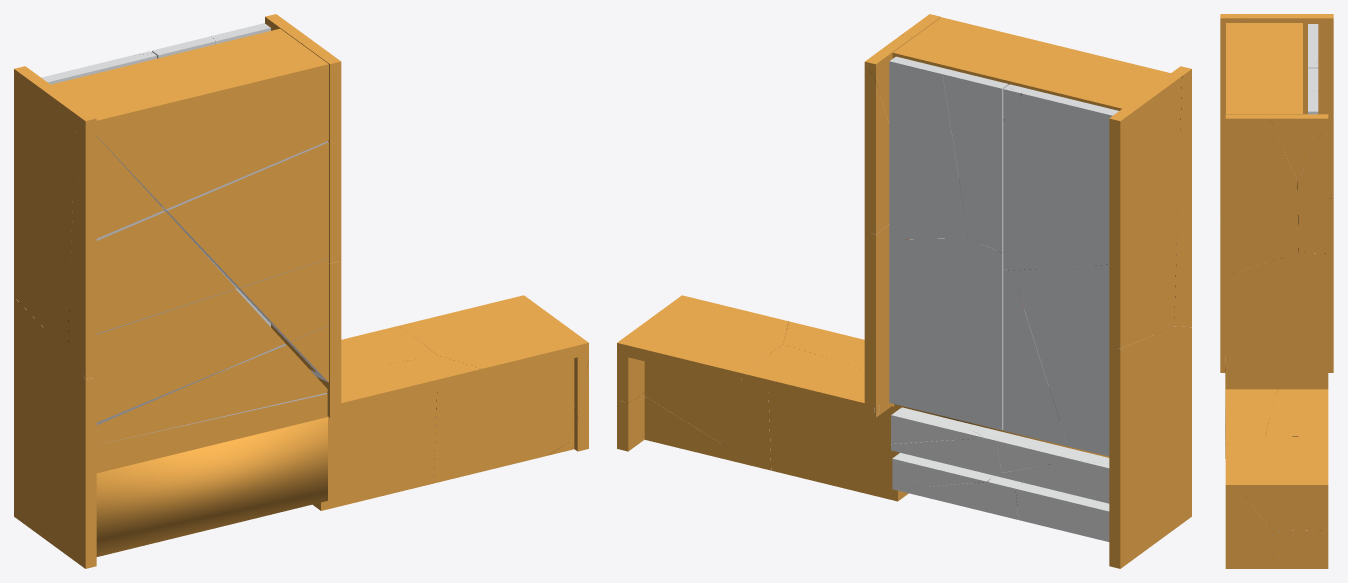
File: Closet_DEST.fbx
3 renders of one model, left to right at view 1: azimuth 30°, elevation 25°; view 2: azimuth 150°, elevation 25°; view 3: azimuth 270°, elevation 25°, orthographic. The views are drawn at different scales.
Visible parts, largest first — view 1: model:mesh845293311.011, model:mesh845293311.002, model:mesh845293311.006_cell.001, model:mesh845293311.012, model:mesh845293311.006_cell, model:mesh845293311.017, model:mesh845293311.007_cell.001, model:mesh845293311.013, model:mesh845293311.007_cell.002, model:mesh845293311.004_cell.001, model:mesh845293311.019, model:mesh845293311.006_cell.002 (+9 smaller); view 2: model:mesh845293311.008_cell, model:mesh845293311.009_cell.001, model:mesh845293311.006_cell.001, model:mesh845293311.006_cell, model:mesh845293311.009_cell, model:mesh845293311.011, model:mesh845293311.008_cell.001, model:mesh845293311.007_cell.003, model:mesh845293311.004_cell.001, model:mesh845293311.008_cell.003, model:mesh845293311.007_cell.001, model:mesh845293311.009_cell.003 (+16 smaller); view 3: model:mesh845293311.005_cell, model:mesh845293311.005_cell.003, model:mesh845293311.011, model:mesh845293311.004_cell.001, model:mesh845293311.006_cell, model:mesh845293311.005_cell.002, model:mesh845293311.003_cell.001, model:mesh845293311.004_cell.003, model:mesh845293311.003_cell.003, model:mesh845293311.004_cell, model:mesh845293311.003_cell.002, model:mesh845293311.005_cell.001 (+5 smaller).
Part boxes in pixels (x1,y1,x2,y2): model:mesh845293311.011: [51, 28, 328, 209]; model:mesh845293311.002: [96, 393, 327, 556]; model:mesh845293311.006_cell.001: [14, 297, 96, 568]; model:mesh845293311.012: [162, 141, 328, 287]; model:mesh845293311.006_cell: [14, 66, 83, 352]; model:mesh845293311.017: [96, 289, 285, 422]; model:mesh845293311.007_cell.001: [433, 358, 574, 483]; model:mesh845293311.013: [96, 210, 236, 333]; model:mesh845293311.007_cell.002: [313, 391, 436, 510]; model:mesh845293311.004_cell.001: [399, 295, 588, 380]; model:mesh845293311.019: [96, 344, 327, 444]; model:mesh845293311.006_cell.002: [67, 109, 96, 379]; model:mesh845293311.008_cell: [889, 238, 1003, 429]; model:mesh845293311.009_cell.001: [1003, 84, 1118, 270]; model:mesh845293311.006_cell.001: [1109, 326, 1191, 568]; model:mesh845293311.006_cell: [1109, 76, 1181, 348]; model:mesh845293311.009_cell: [1012, 264, 1109, 456]; model:mesh845293311.011: [892, 17, 1170, 110]; model:mesh845293311.008_cell.001: [889, 56, 968, 239]; model:mesh845293311.007_cell.003: [768, 391, 908, 501]; model:mesh845293311.004_cell.001: [617, 295, 788, 384]; model:mesh845293311.008_cell.003: [942, 70, 1008, 252]; model:mesh845293311.007_cell.001: [644, 361, 771, 470]; model:mesh845293311.009_cell.003: [1003, 269, 1067, 446]; model:mesh845293311.005_cell: [1225, 252, 1328, 389]; model:mesh845293311.005_cell.003: [1225, 114, 1298, 275]; model:mesh845293311.011: [1226, 23, 1302, 114]; model:mesh845293311.004_cell.001: [1225, 436, 1328, 494]; model:mesh845293311.006_cell: [1236, 14, 1333, 198]; model:mesh845293311.005_cell.002: [1298, 120, 1328, 253]; model:mesh845293311.003_cell.001: [1225, 494, 1273, 568]; model:mesh845293311.004_cell.003: [1265, 389, 1328, 436]; model:mesh845293311.003_cell.003: [1244, 494, 1328, 531]; model:mesh845293311.004_cell: [1225, 389, 1277, 443]; model:mesh845293311.003_cell.002: [1272, 530, 1328, 568]; model:mesh845293311.005_cell.001: [1270, 114, 1328, 180].
Size of the model in its own units: 11.43 by 9.78 by 2.79.
